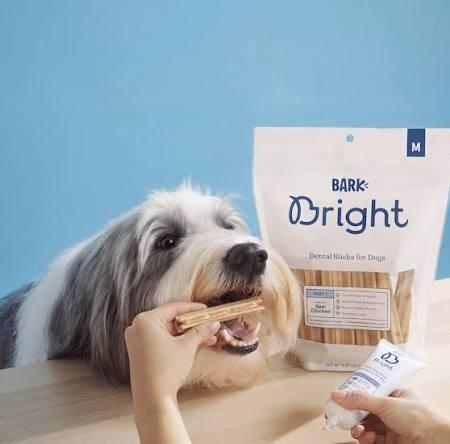adult_dog: (2, 186, 300, 396)
